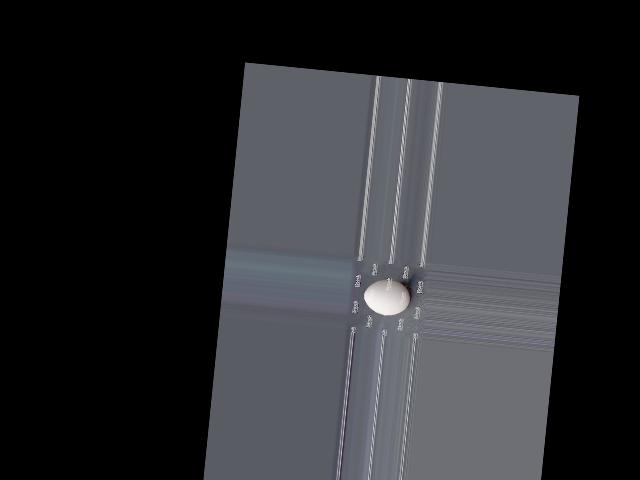egg: (362, 277, 412, 317)
